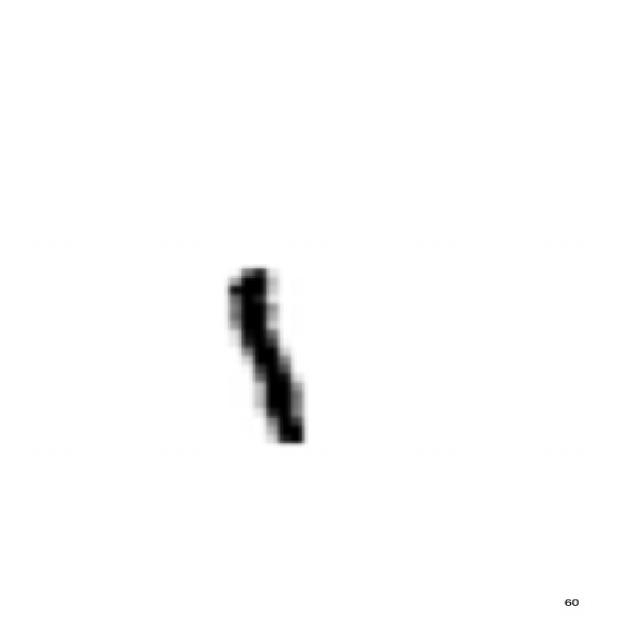1 -one-: (207, 253, 321, 460)
